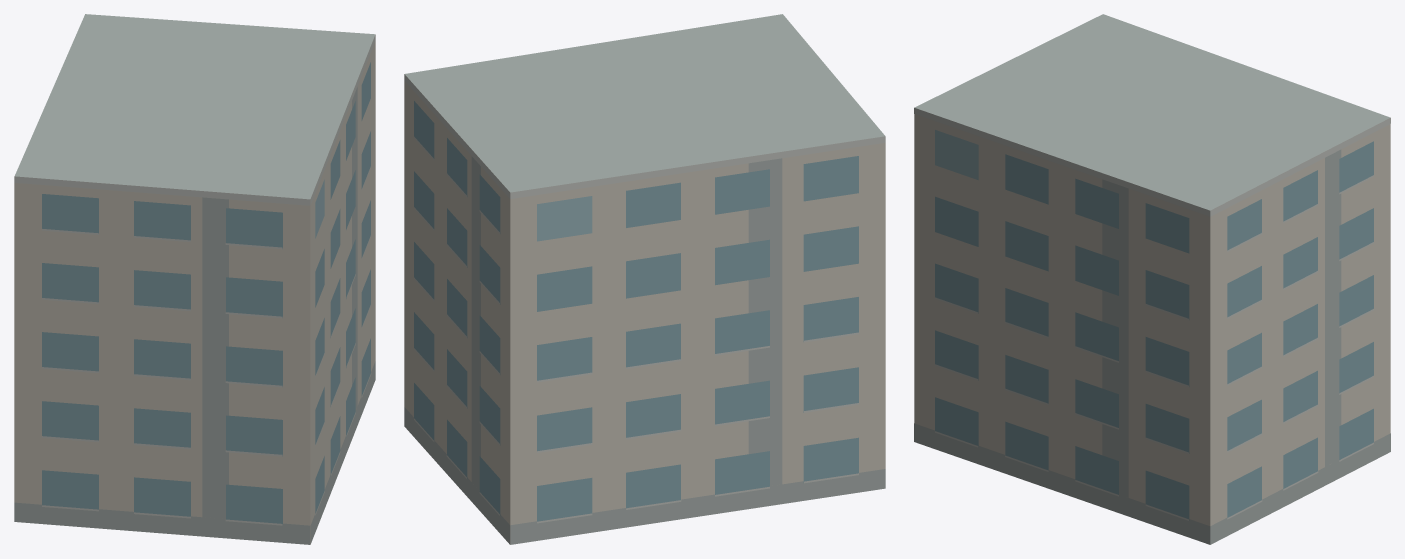
File: survey-upis-32894143.glb
3 views of the same model, side by side, from view 1: azimuth 30°, elevation 25°; view 2: azimuth 150°, elevation 25°; view 3: azimuth 270°, elevation 25° (orthographic). The views are drawn at different scales.
Parts seen in each view (by area): view 1: survey-upis-32894143.tmp; view 2: survey-upis-32894143.tmp; view 3: survey-upis-32894143.tmp.
Part boxes in pixels (x1=…): survey-upis-32894143.tmp: x1=14, y1=14, x2=375, y2=544; survey-upis-32894143.tmp: x1=404, y1=14, x2=885, y2=544; survey-upis-32894143.tmp: x1=914, y1=14, x2=1390, y2=544.
Bounding box in the file's own units: 16.53 × 13.1 × 16.93.
